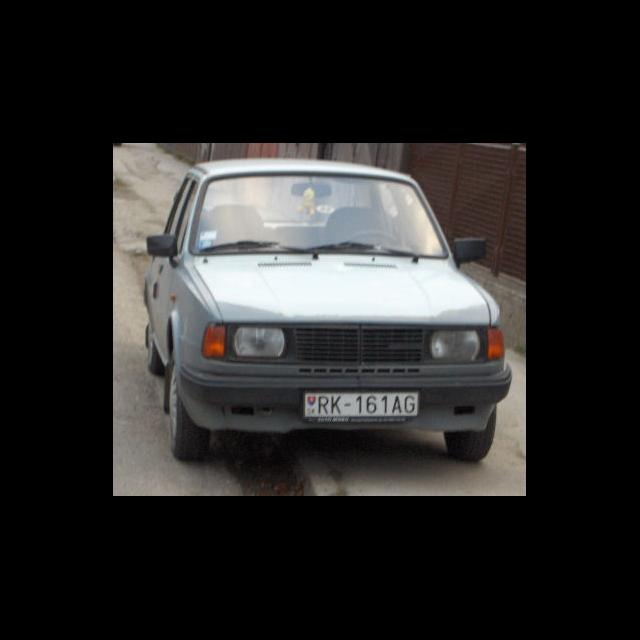Plate: (302, 390, 421, 420)
